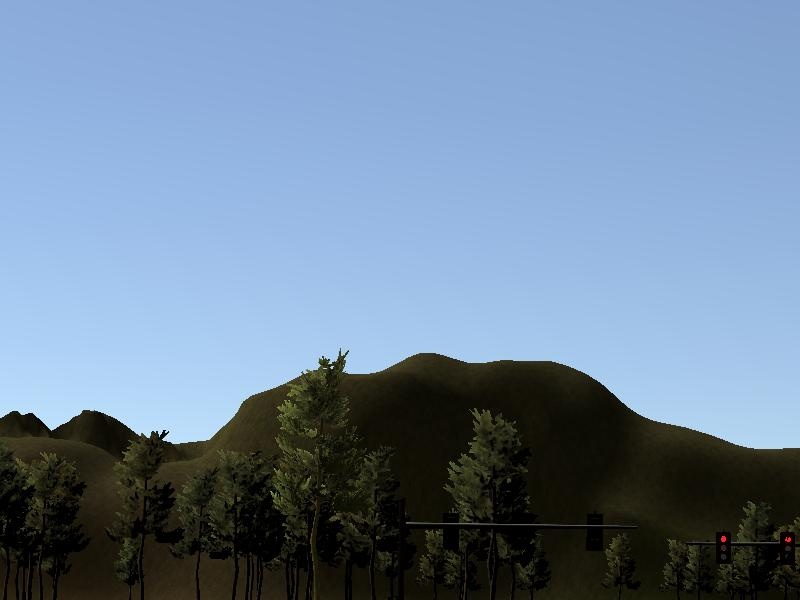RED: (709, 526, 738, 574), (773, 527, 797, 584)
